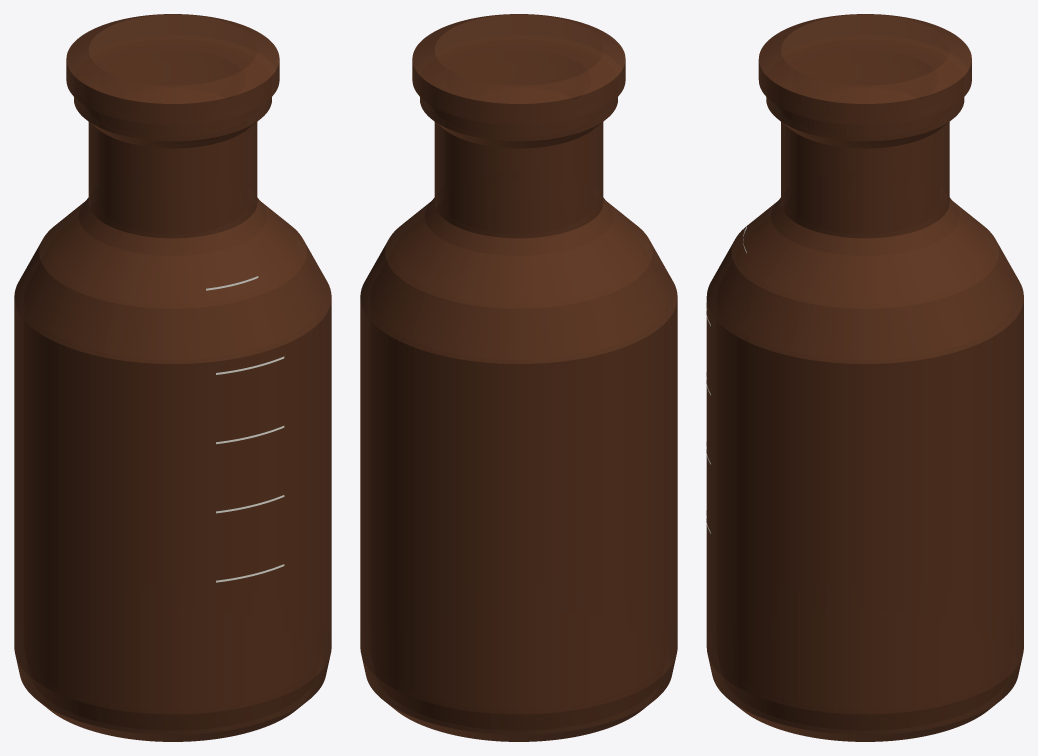
The model's file is preview.glb.
3 views of the same model, side by side, from view 1: azimuth 30°, elevation 25°; view 2: azimuth 150°, elevation 25°; view 3: azimuth 270°, elevation 25° (orthographic).
Parts seen in each view (by area): view 1: Vessel_Vessel, Closure_Closure; view 2: Vessel_Vessel, Closure_Closure; view 3: Vessel_Vessel, Closure_Closure.
Boxes of the visible parts, x1,y1,x2,y2 form: Vessel_Vessel: (14,97,331,741); Closure_Closure: (66,14,279,124); Vessel_Vessel: (360,97,677,741); Closure_Closure: (412,14,625,124); Vessel_Vessel: (706,97,1023,741); Closure_Closure: (758,14,971,125).
Bounding box in the file's own units: 0.064 × 0.141 × 0.0641.
